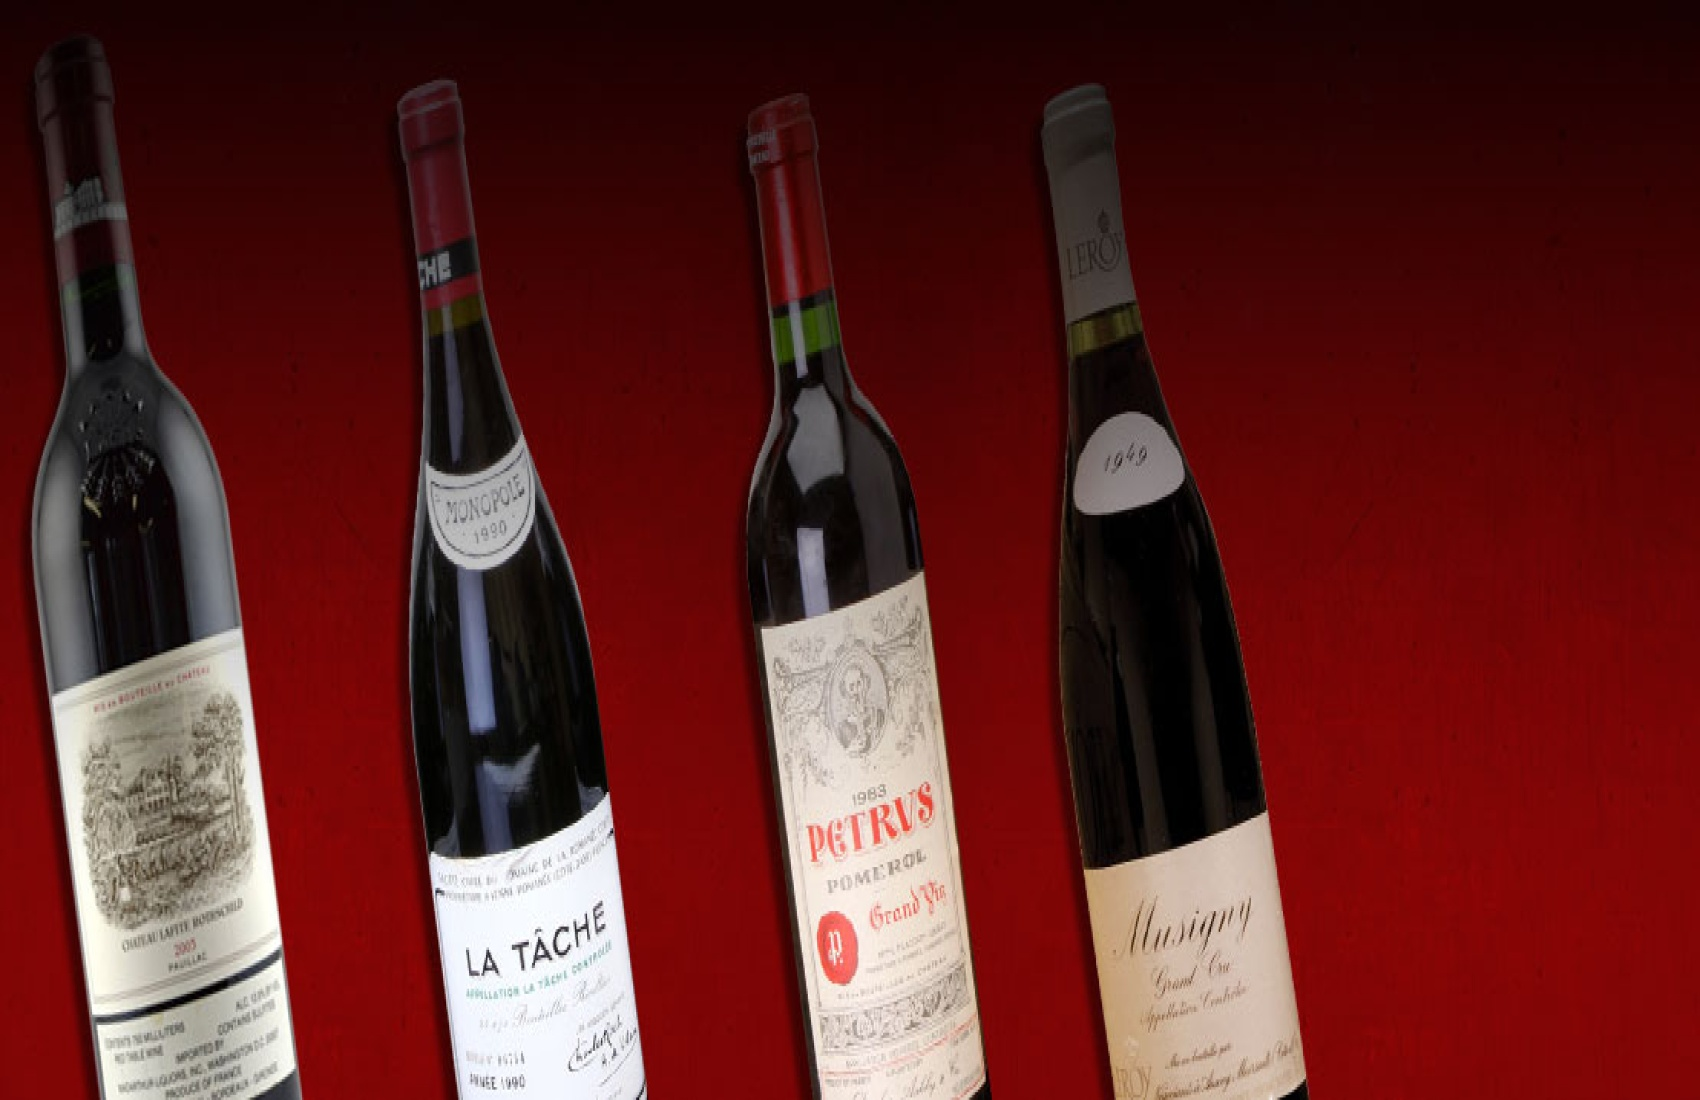wine: (1045, 92, 1317, 1093), (393, 79, 649, 1100), (738, 92, 997, 1099), (68, 66, 300, 1100)
